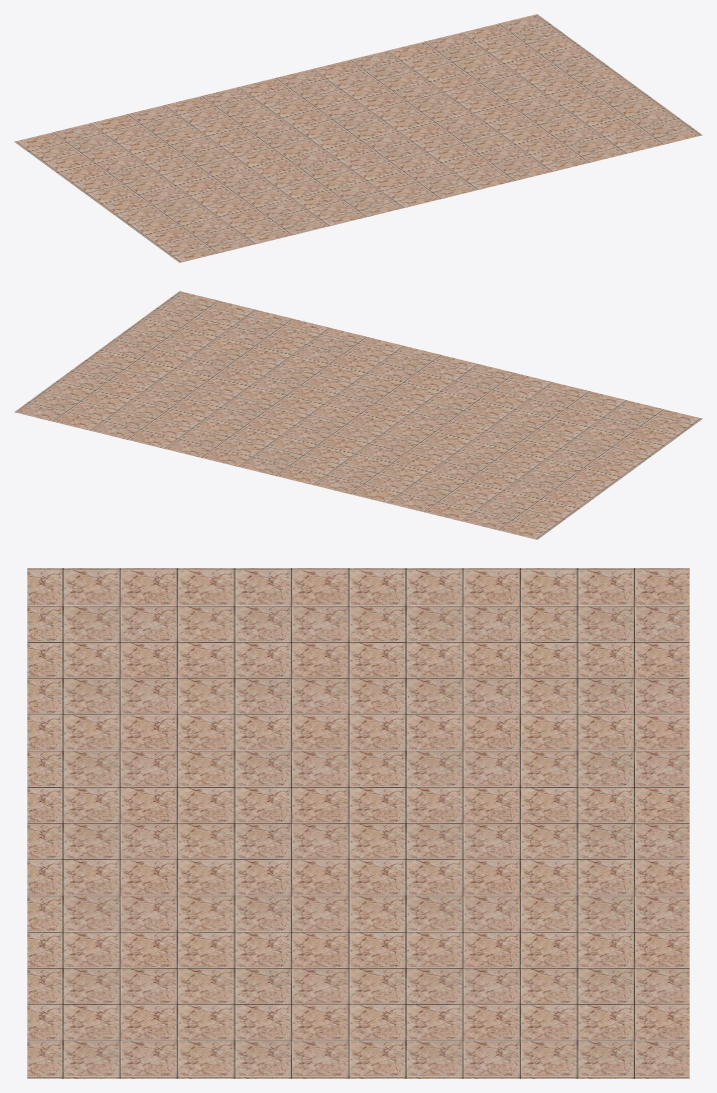
File: hirise_base_01.fbx
3 renders of one model, top to bottom at view 1: azimuth 30°, elevation 25°; view 2: azimuth 150°, elevation 25°; view 3: azimuth 270°, elevation 25°, orthographic. The views are drawn at different scales.
Visible parts, largest first — view 1: hirise_base_01; view 2: hirise_base_01; view 3: hirise_base_01.
Boxes of the visible parts, box(x1,y1,x2,y2) form: hirise_base_01: box(14, 14, 702, 262); hirise_base_01: box(14, 291, 702, 539); hirise_base_01: box(27, 568, 689, 1078).
Bounding box in the file's own units: 52.15 × 0 × 28.56.
